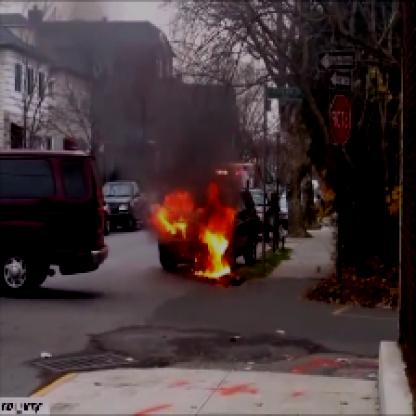Fire: (156, 178, 256, 286)
